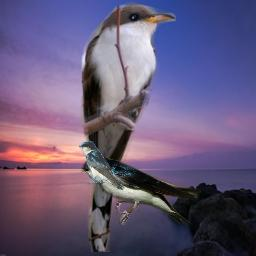Cuckoo: (79, 2, 176, 252)
Swallow: (81, 155, 204, 228), (79, 141, 129, 190)
